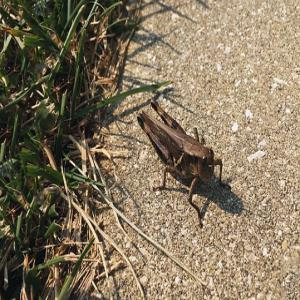locust: (133, 77, 227, 208)
